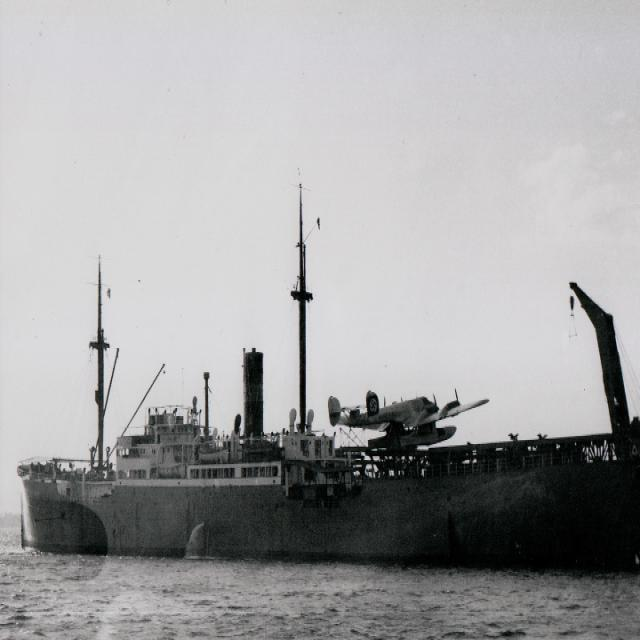Portanaves: (12, 175, 640, 582)
